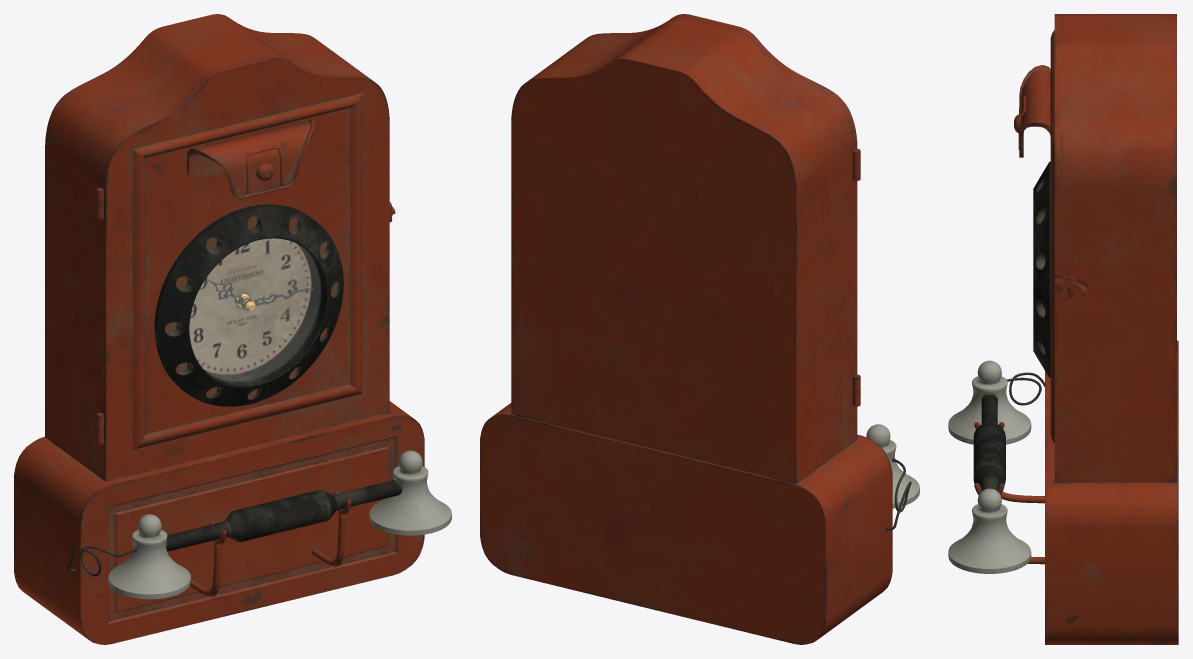
The model's file is ph-telephone-clock.glb.
The picture shows the model from 3 angles, left to right: view 1: azimuth 30°, elevation 25°; view 2: azimuth 150°, elevation 25°; view 3: azimuth 270°, elevation 25°; orthographic projection.
Parts seen in each view (by area): view 1: vintage_telephone_wall_clock; view 2: vintage_telephone_wall_clock; view 3: vintage_telephone_wall_clock.
Boxes of the visible parts, <box> form: vintage_telephone_wall_clock: <box>14,14,451,644</box>; vintage_telephone_wall_clock: <box>480,14,919,644</box>; vintage_telephone_wall_clock: <box>948,14,1178,644</box>.
Size of the model in its own units: 0.3428 by 0.5012 by 0.1926.
Materials: 2 (1 with a texture image).
